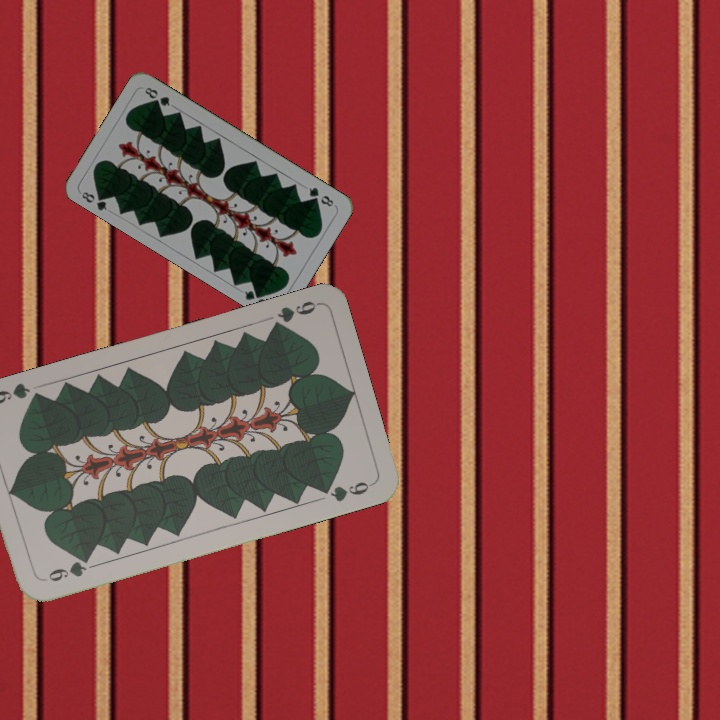G8: (77, 187, 110, 213), (305, 183, 336, 209)
G9: (266, 297, 321, 333), (38, 553, 93, 585)
